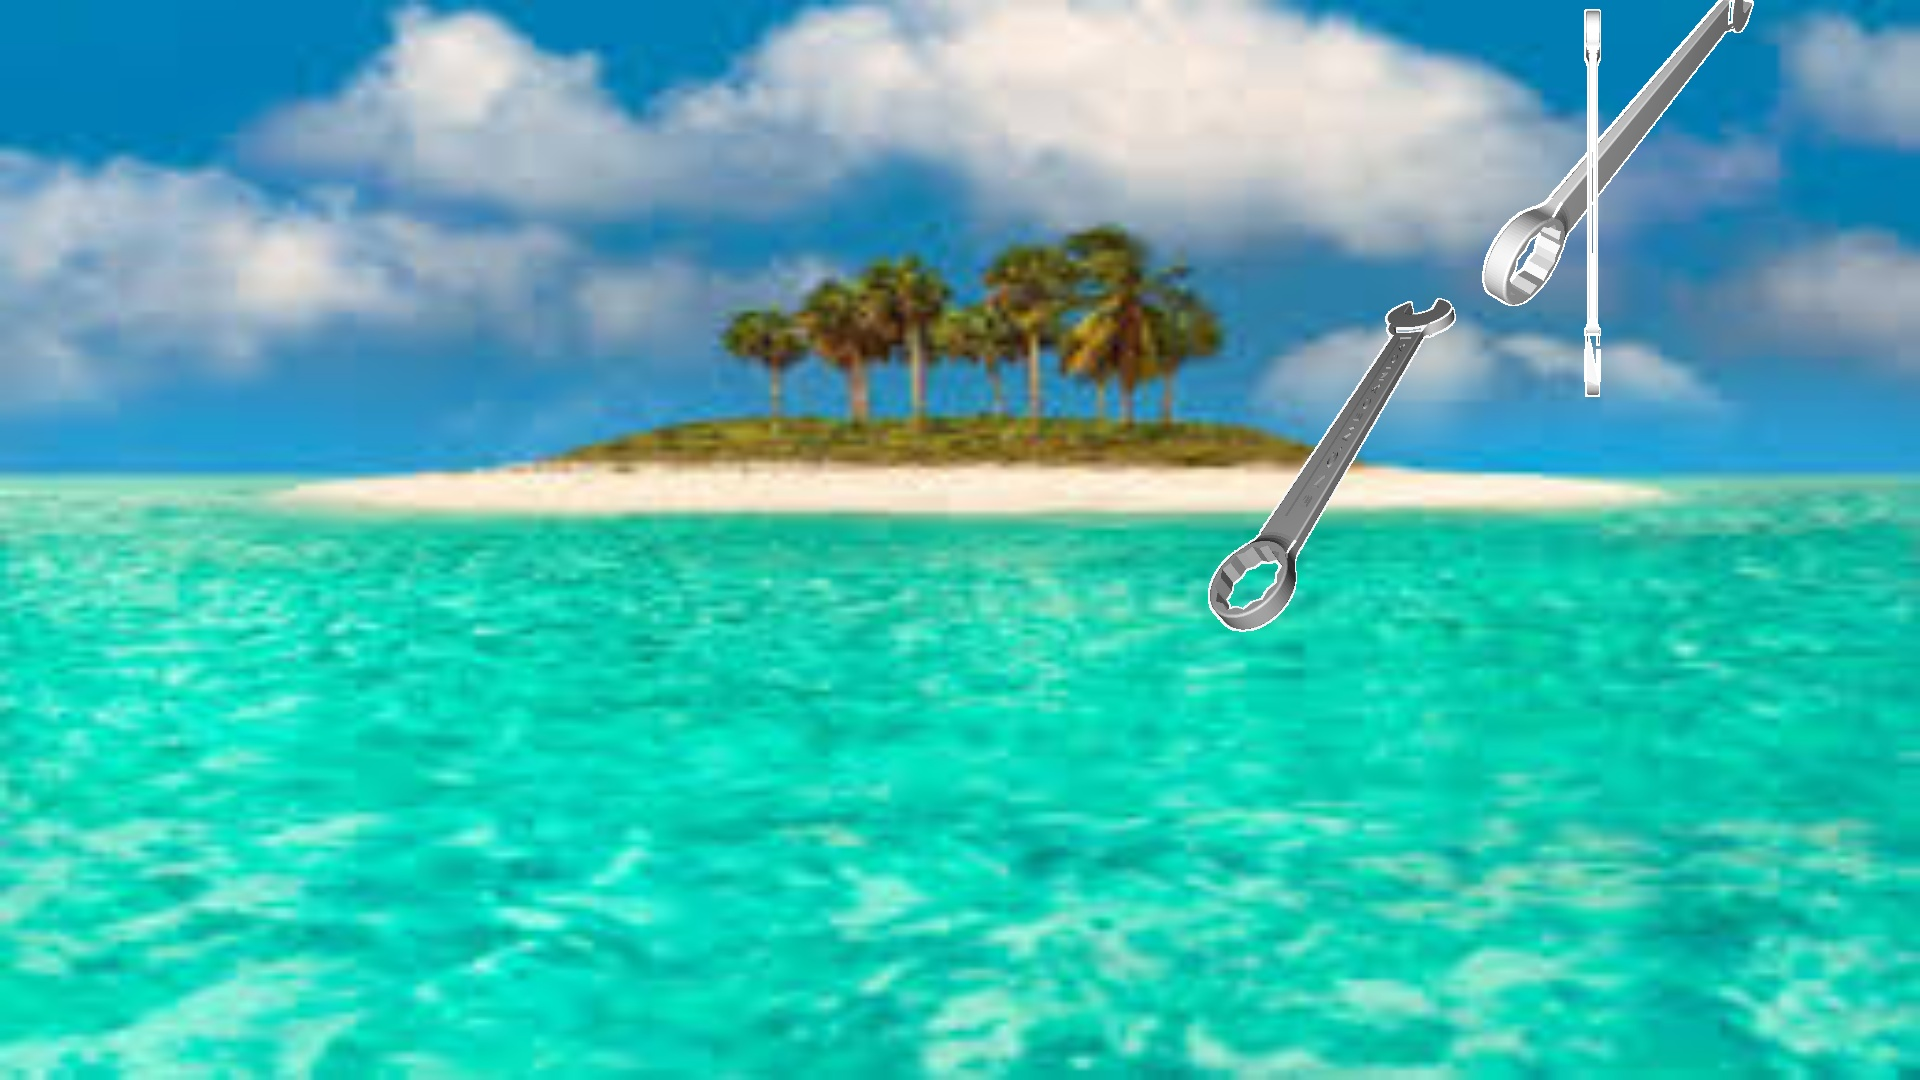Mixed Key: (1482, 0, 1753, 305), (1208, 298, 1455, 632), (1584, 9, 1600, 396)
